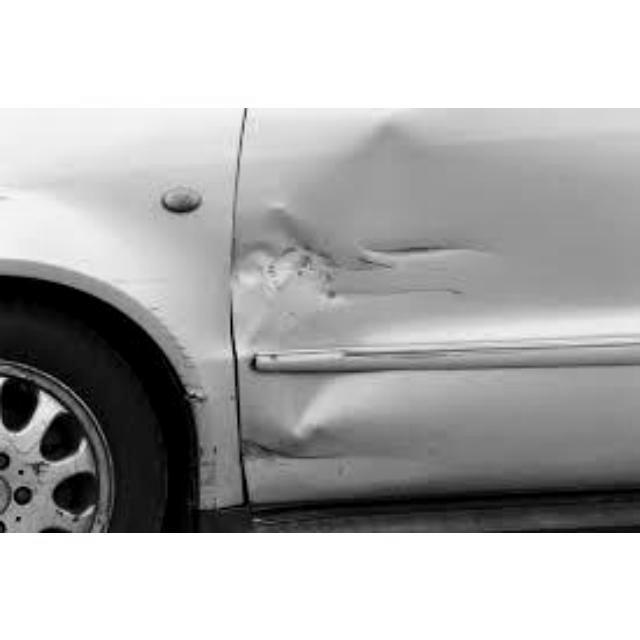doorouter-dent: (243, 107, 638, 493)
fender-dent: (1, 110, 236, 507)
